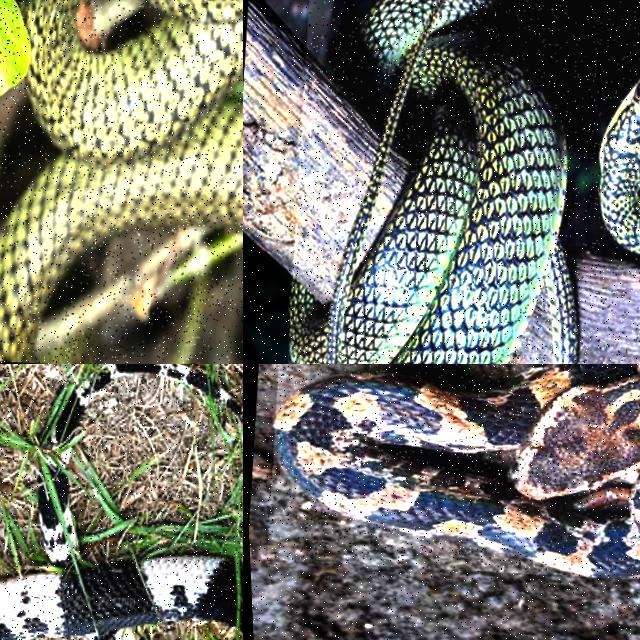Chrysopelea ornata: (291, 0, 578, 363), (0, 0, 242, 362)
Naja siamensis: (0, 555, 242, 639)
Ovophis monticola: (276, 364, 639, 578)
